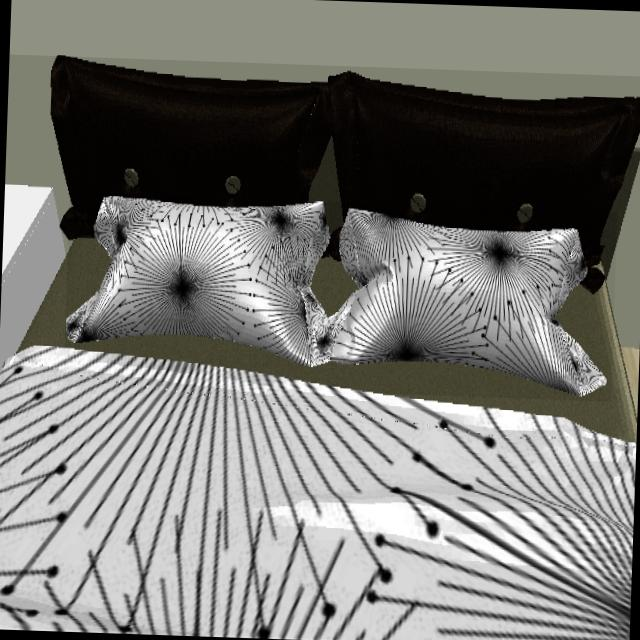bed: (0, 56, 640, 640)
pillow: (65, 200, 611, 400)
